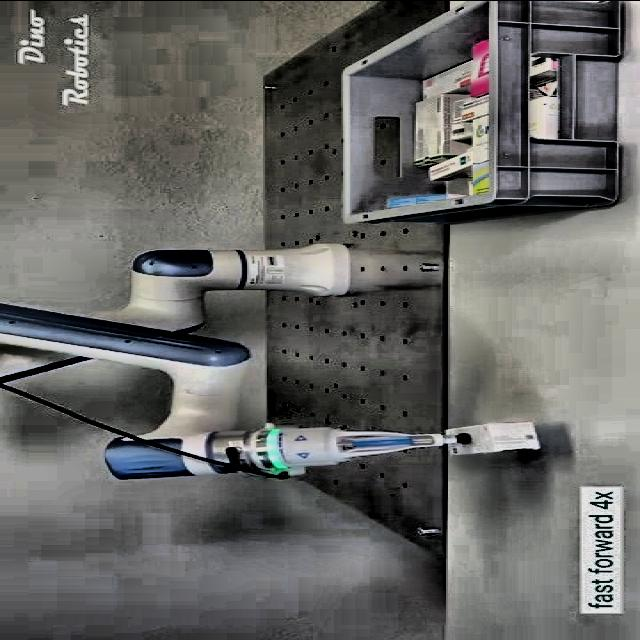robot: (1, 242, 538, 481)
